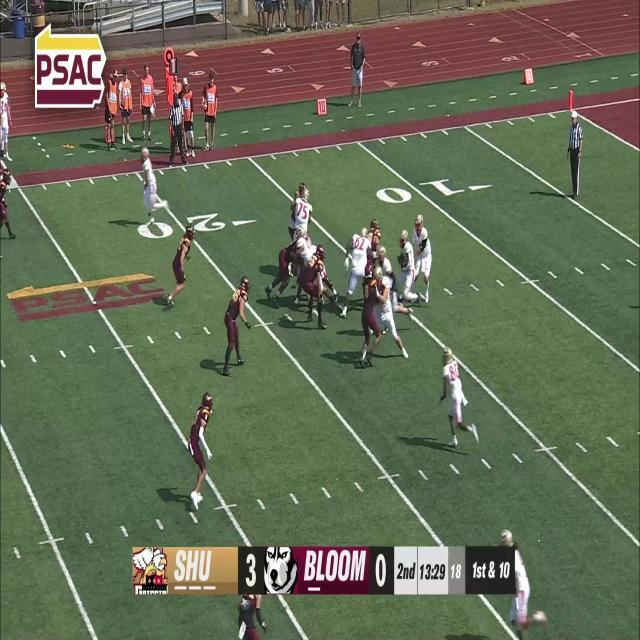football: (399, 258, 407, 270)
